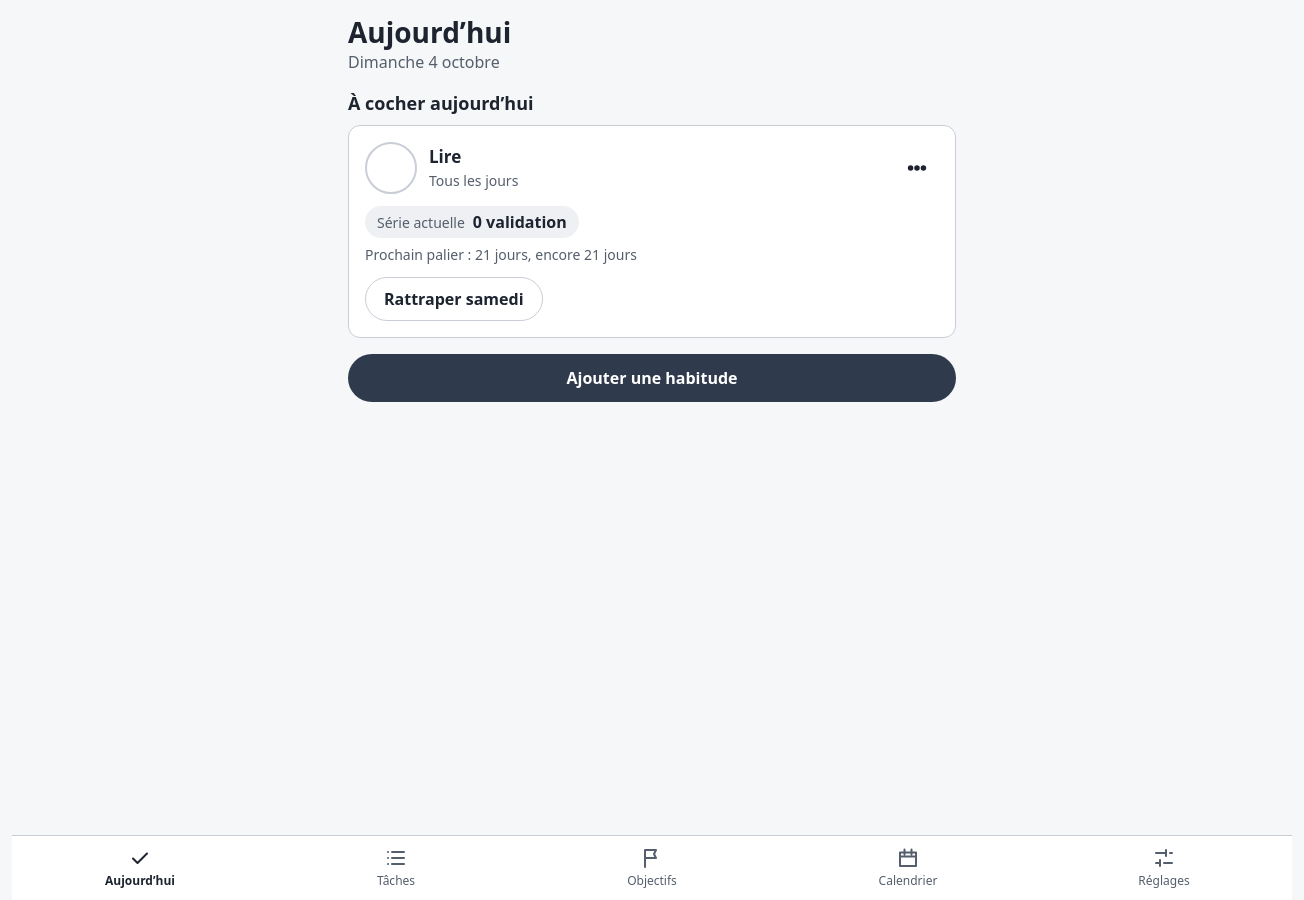
Test: habitudes › célèbre un palier atteint grâce à un rattrapage, même après la coche du jour
expect the heading "Aujourd’hui" is shown: met, box [348,13,511,51]
// 19 jours validés jusqu'au 2 octobre, samedi 3 manqué : cocher aujourd'hui puis rattraper.
Click the button named "Valider « Lire » pour aujourd'hui".
click(391, 168)  # box [365,142,417,194]
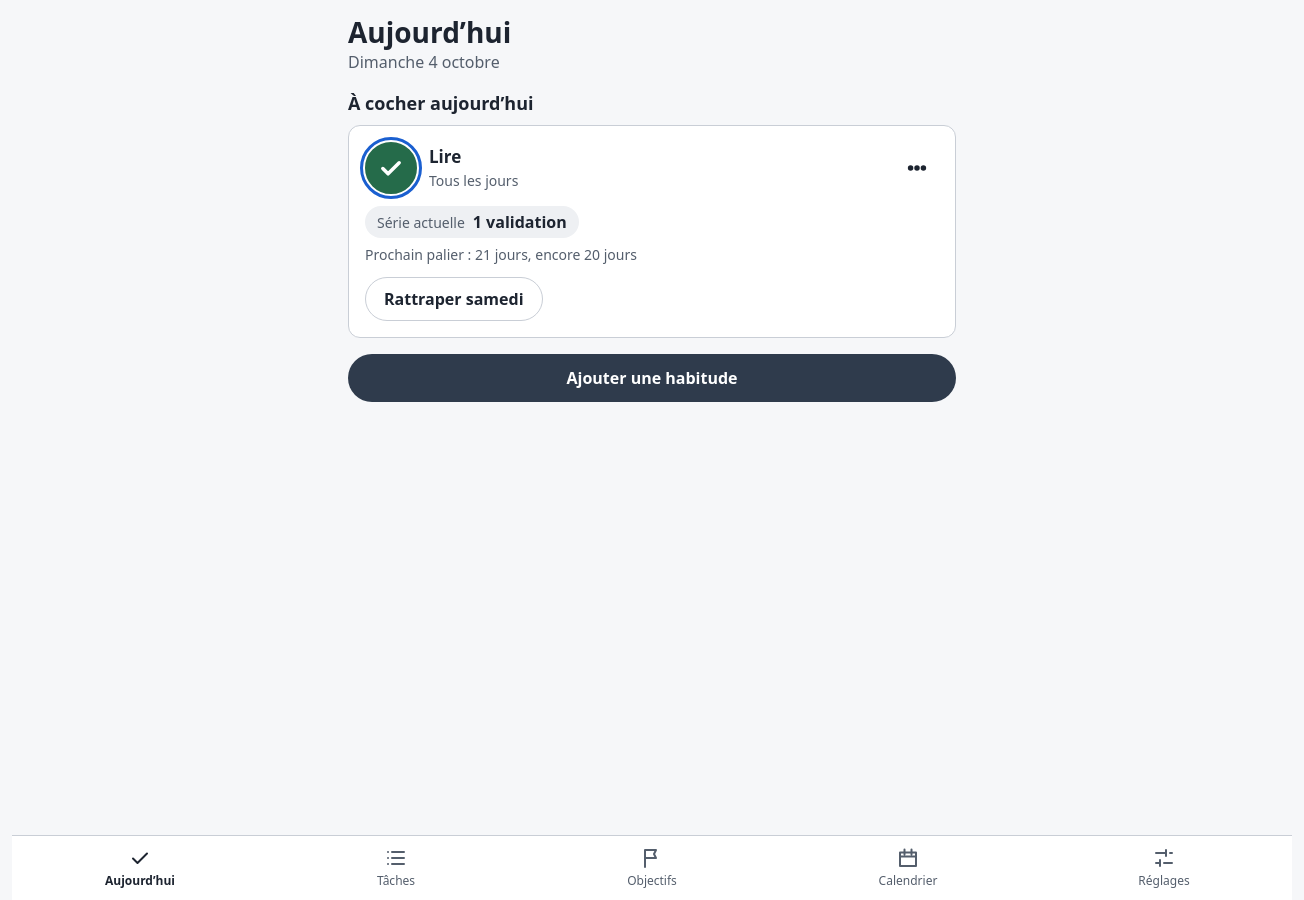
Click the button with aria-label "Rattraper samedi pour « Lire »".
click(454, 299)  # box [365,277,542,321]
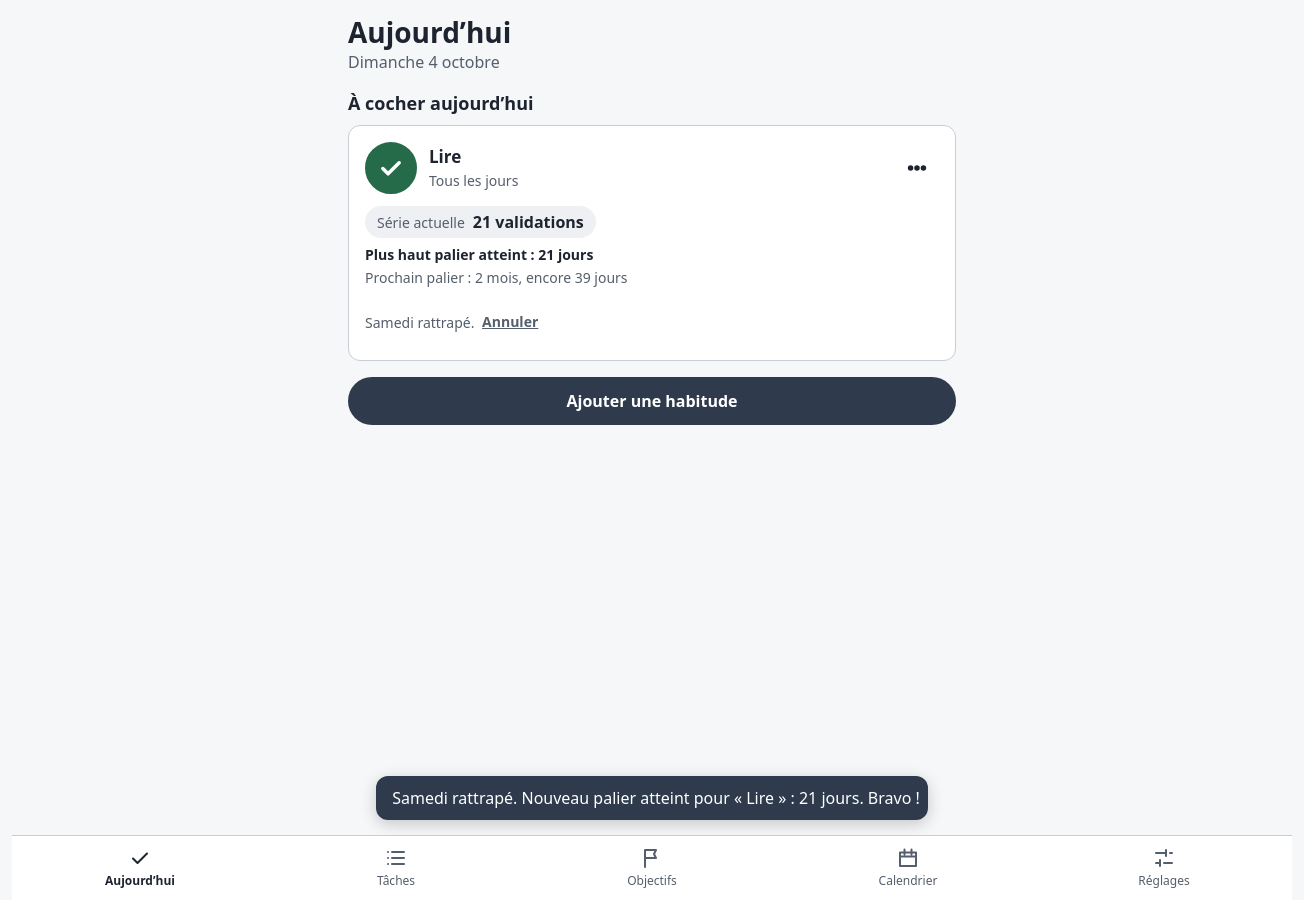
expect the text "Samedi rattrapé. Nouveau palier atteint pour « Lire » : 21 jours. Bravo !" is shown: met, box [392,786,920,810]
expect the text "21 validations" is shown: met, box [473,210,584,234]
